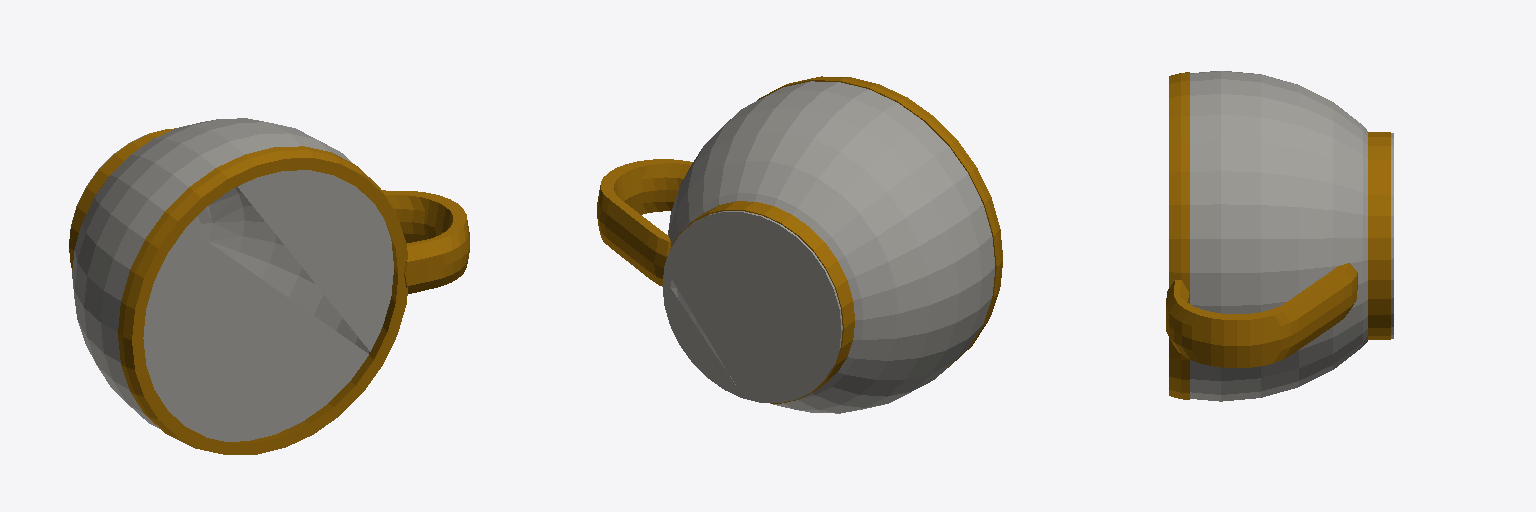
File: cup.obj
3 renders of one model, left to right at view 1: azimuth 30°, elevation 25°; view 2: azimuth 150°, elevation 25°; view 3: azimuth 270°, elevation 25°, orthographic.
Parts seen in each view (by area): view 1: Cup2_Cup2.003, Cup1; view 2: Cup2_Cup2.003, Cup1; view 3: Cup2_Cup2.003, Cup1.
Boxes of the visible parts, <box> form: Cup2_Cup2.003: <box>69,118,393,441</box>; Cup1: <box>69,128,469,454</box>; Cup2_Cup2.003: <box>662,81,994,413</box>; Cup1: <box>597,76,1002,403</box>; Cup2_Cup2.003: <box>1190,71,1393,401</box>; Cup1: <box>1166,72,1390,399</box>.
Bounding box in the file's own units: 81.5 × 63.15 × 43.45.